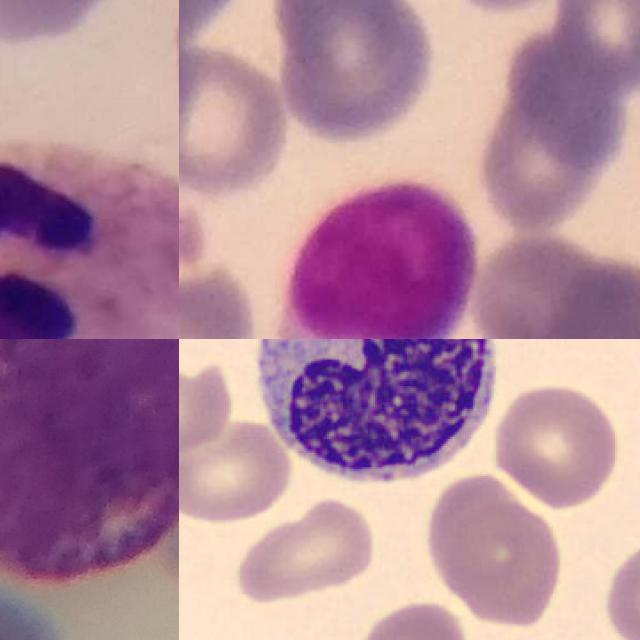Basophil: (0, 339, 179, 588)
Lymphocyte: (286, 179, 479, 339)
Monocyte: (243, 339, 506, 495)
Neutrophil: (0, 142, 179, 339)
RBC: (421, 475, 569, 630), (489, 379, 622, 511), (230, 494, 381, 605), (179, 414, 296, 527), (179, 347, 239, 461), (348, 597, 467, 640), (595, 534, 640, 640)
